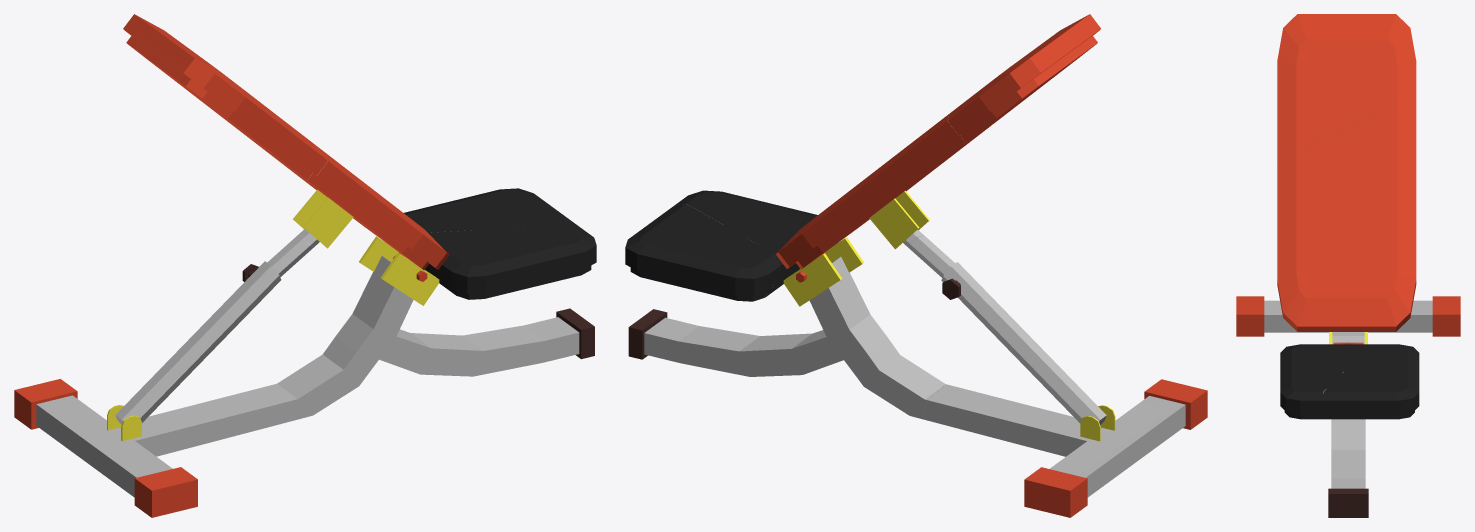
Rendered from Ghe_tap_bung_DEST.fbx.
3 renders of one model, left to right at view 1: azimuth 30°, elevation 25°; view 2: azimuth 150°, elevation 25°; view 3: azimuth 270°, elevation 25°, orthographic. The views are drawn at different scales.
Parts seen in each view (by area): view 1: Mesh_ghe_tap_bung.012_cell.006, Mesh_ghe_tap_bung.012_cell.002, Mesh_ghe_tap_bung_cell, Mesh_ghe_tap_bung.016_cell.001, Mesh_ghe_tap_bung.007_cell.001, Mesh_ghe_tap_bung.016_cell, Mesh_ghe_tap_bung_cell.001, Mesh_ghe_tap_bung.012_cell.003, Mesh_ghe_tap_bung.012_cell, Mesh_ghe_tap_bung.012_cell.001, Mesh_ghe_tap_bung.007_cell.002, Mesh_ghe_tap_bung.012_cell.007 (+1 smaller); view 2: Mesh_ghe_tap_bung.012_cell.006, Mesh_ghe_tap_bung.012_cell.002, Mesh_ghe_tap_bung_cell.001, Mesh_ghe_tap_bung.016_cell, Mesh_ghe_tap_bung.007_cell.001, Mesh_ghe_tap_bung.016_cell.001, Mesh_ghe_tap_bung_cell, Mesh_ghe_tap_bung.012_cell, Mesh_ghe_tap_bung.012_cell.003, Mesh_ghe_tap_bung.012_cell.008, Mesh_ghe_tap_bung.007_cell, Mesh_ghe_tap_bung.012_cell.007 (+1 smaller); view 3: Mesh_ghe_tap_bung.016_cell, Mesh_ghe_tap_bung.016_cell.001, Mesh_ghe_tap_bung_cell.001, Mesh_ghe_tap_bung_cell, Mesh_ghe_tap_bung.012_cell.006, Mesh_ghe_tap_bung.012_cell.002, Mesh_ghe_tap_bung.012_cell.007, Mesh_ghe_tap_bung.012_cell, Mesh_ghe_tap_bung.012_cell.003.
Boxes of the visible parts, x1,y1,x2,y2 form: Mesh_ghe_tap_bung.012_cell.006: (274,256,579,417); Mesh_ghe_tap_bung.012_cell.002: (36,384,305,497); Mesh_ghe_tap_bung_cell: (425,225,596,299); Mesh_ghe_tap_bung.016_cell.001: (123,14,327,179); Mesh_ghe_tap_bung.007_cell.001: (115,233,313,424); Mesh_ghe_tap_bung.016_cell: (184,88,449,270); Mesh_ghe_tap_bung_cell.001: (404,188,579,232); Mesh_ghe_tap_bung.012_cell.003: (134,467,197,517); Mesh_ghe_tap_bung.012_cell: (14,379,77,429); Mesh_ghe_tap_bung.012_cell.001: (381,252,439,305); Mesh_ghe_tap_bung.007_cell.002: (303,197,353,248); Mesh_ghe_tap_bung.012_cell.007: (556,308,594,359); Mesh_ghe_tap_bung.012_cell.006: (644,257,945,418); Mesh_ghe_tap_bung.012_cell.002: (920,384,1185,497); Mesh_ghe_tap_bung_cell.001: (625,204,780,301); Mesh_ghe_tap_bung.016_cell: (776,114,995,269); Mesh_ghe_tap_bung.007_cell.001: (908,235,1106,424); Mesh_ghe_tap_bung.016_cell.001: (948,14,1100,142); Mesh_ghe_tap_bung_cell: (675,190,817,297); Mesh_ghe_tap_bung.012_cell: (1024,467,1087,517); Mesh_ghe_tap_bung.012_cell.003: (1144,379,1207,429); Mesh_ghe_tap_bung.012_cell.008: (783,253,842,306); Mesh_ghe_tap_bung.007_cell: (869,198,919,249); Mesh_ghe_tap_bung.012_cell.007: (628,309,667,359); Mesh_ghe_tap_bung.016_cell: (1277,100,1416,331); Mesh_ghe_tap_bung.016_cell.001: (1277,14,1416,161); Mesh_ghe_tap_bung_cell.001: (1322,344,1419,419); Mesh_ghe_tap_bung_cell: (1280,344,1377,419); Mesh_ghe_tap_bung.012_cell.006: (1331,336,1365,488); Mesh_ghe_tap_bung.012_cell.002: (1264,300,1432,335); Mesh_ghe_tap_bung.012_cell.007: (1328,488,1368,517); Mesh_ghe_tap_bung.012_cell: (1432,296,1460,336); Mesh_ghe_tap_bung.012_cell.003: (1236,296,1264,336).
Bounding box in the file's own units: 9.37 × 7.41 × 4.47.
